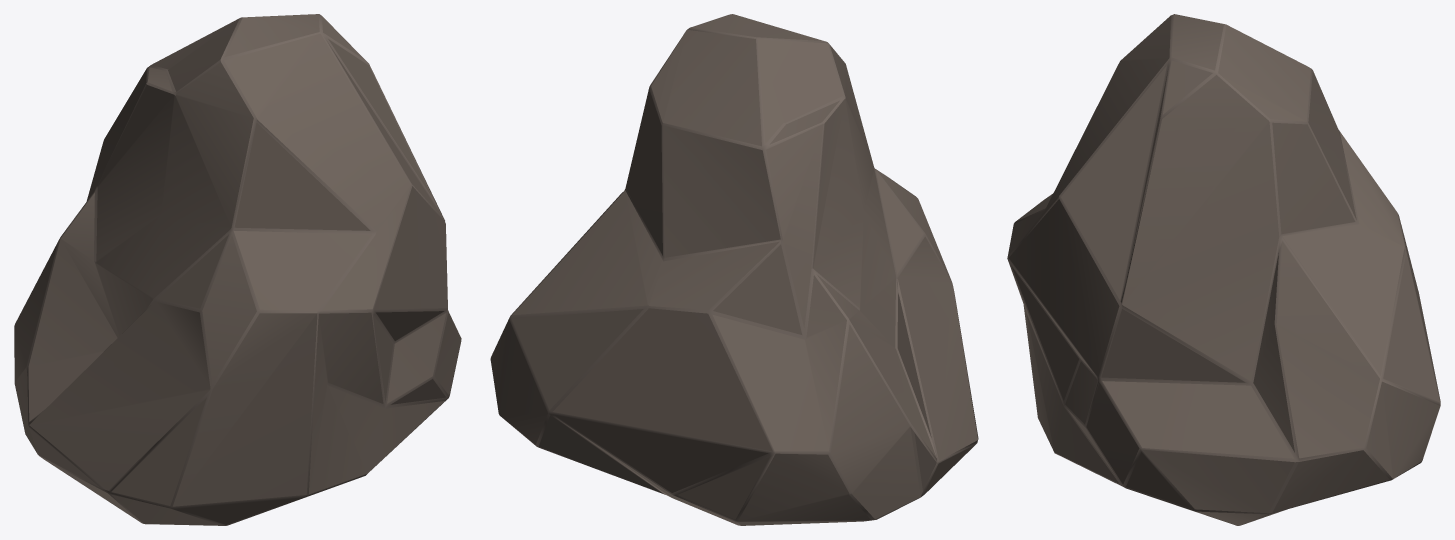
Rendered from Rock03.FBX.
3 views of the same model, side by side, from view 1: azimuth 30°, elevation 25°; view 2: azimuth 150°, elevation 25°; view 3: azimuth 270°, elevation 25° (orthographic). The views are drawn at different scales.
Visible parts, largest first — view 1: Rock_big_01; view 2: Rock_big_01; view 3: Rock_big_01.
Boxes of the visible parts, bbox=[...] form: Rock_big_01: bbox=[14, 14, 461, 525]; Rock_big_01: bbox=[490, 14, 978, 525]; Rock_big_01: bbox=[1007, 14, 1440, 525].
Bounding box in the file's own units: 11.26 × 10.28 × 11.88.
